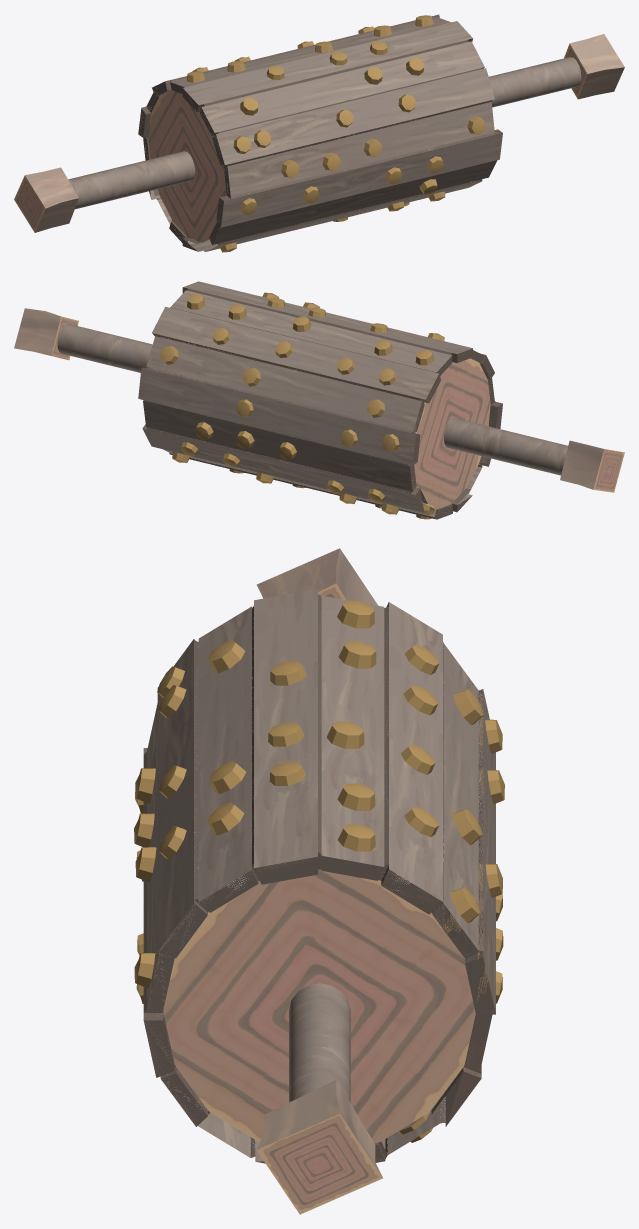
File: Obj_Elevator_Roller.fbx
The picture shows the model from 3 angles, top to bottom: view 1: azimuth 30°, elevation 25°; view 2: azimuth 150°, elevation 25°; view 3: azimuth 270°, elevation 25°; orthographic projection. The views are drawn at different scales.
Parts seen in each view (by area): view 1: Rueda; view 2: Rueda; view 3: Rueda.
Boxes of the visible parts, x1,y1,x2,y2 form: Rueda: (14, 14, 624, 252); Rueda: (14, 281, 624, 519); Rueda: (134, 548, 504, 1214).
Size of the model in its own units: 5.99 by 1.65 by 1.66.
Materials: 2 (1 with a texture image).
